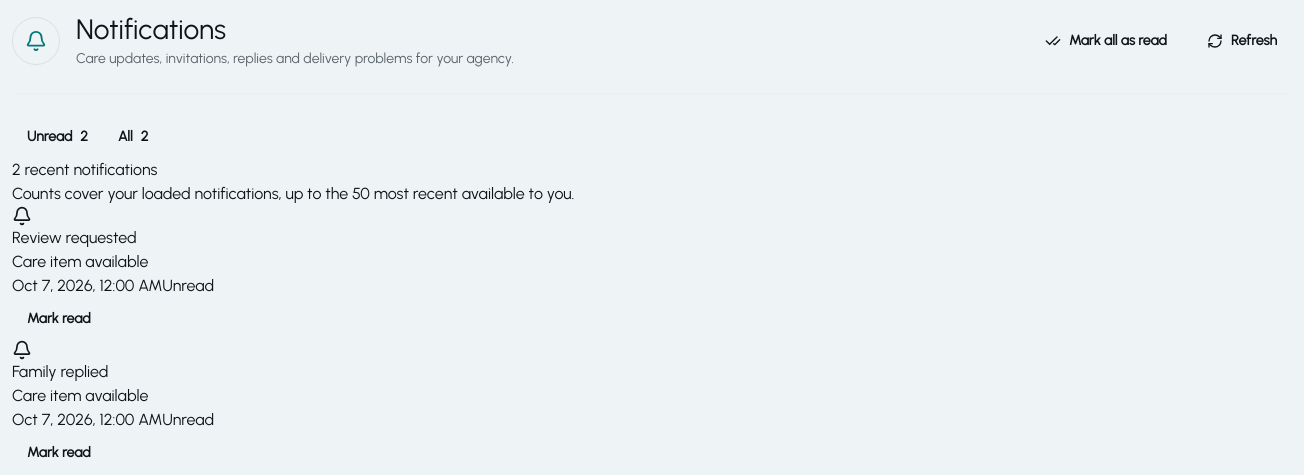
it: marks every loaded unread notification read with Mark all as read
Click the button "Mark all as read" at {"x": 1106, "y": 40}, box x1=1030 y1=20 x2=1182 y2=62
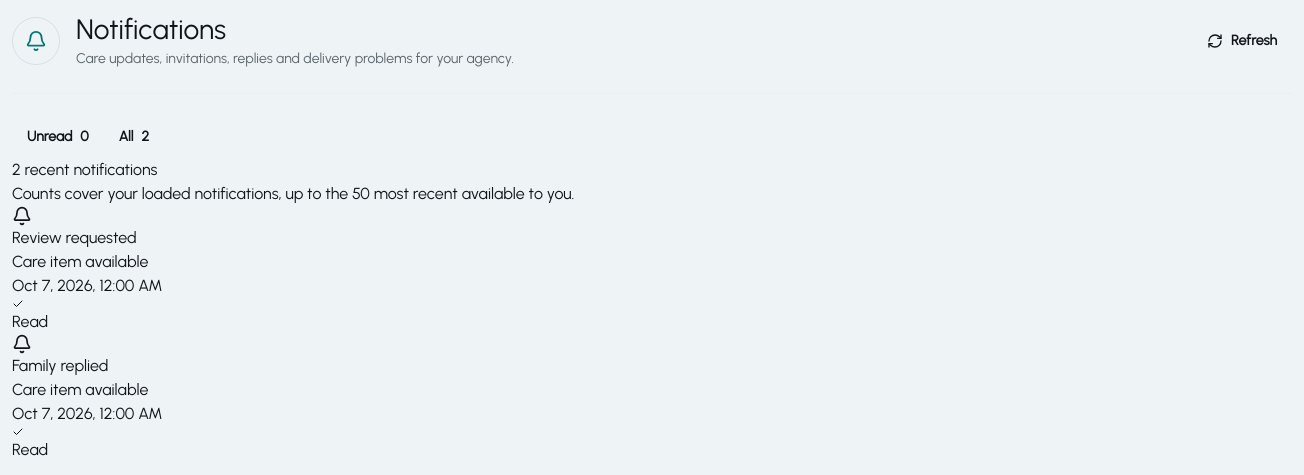
Result: the button "Mark all as read" is gone
